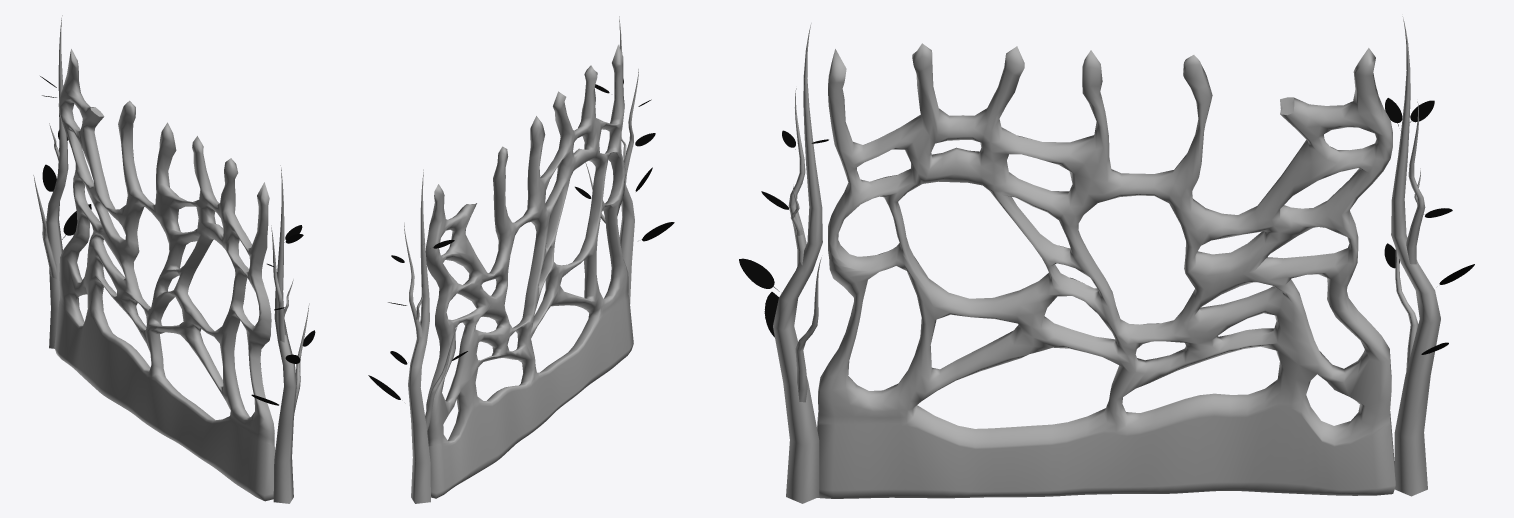
File: barriere.fbx
The picture shows the model from 3 angles, left to right: view 1: azimuth 30°, elevation 25°; view 2: azimuth 150°, elevation 25°; view 3: azimuth 270°, elevation 25°; orthographic projection. The views are drawn at different scales.
Visible parts, largest first — view 1: barriere1; view 2: barriere1; view 3: barriere1.
Boxes of the visible parts, x1,y1,x2,y2 form: barriere1: [33, 15, 315, 503]; barriere1: [368, 16, 674, 503]; barriere1: [739, 16, 1474, 503].
Size of the model in its own units: 87.71 by 272 by 405.
